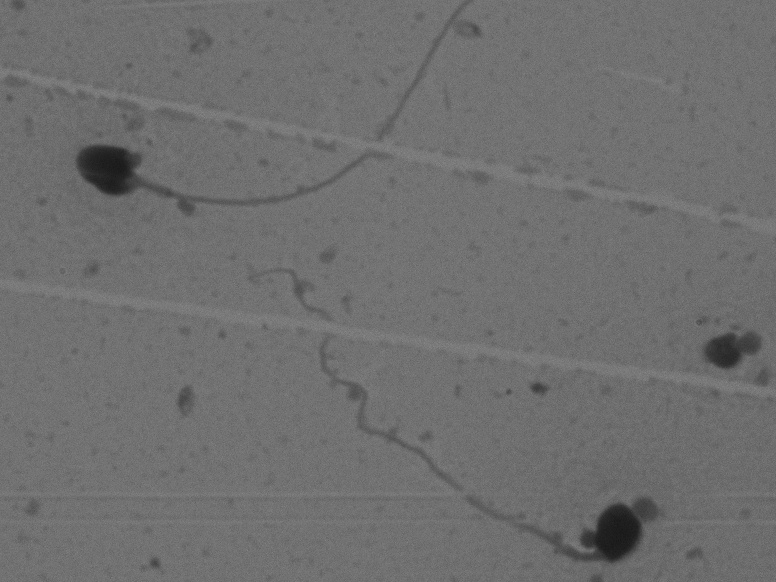Abnormal: (222, 267, 675, 571), (39, 17, 503, 259)
